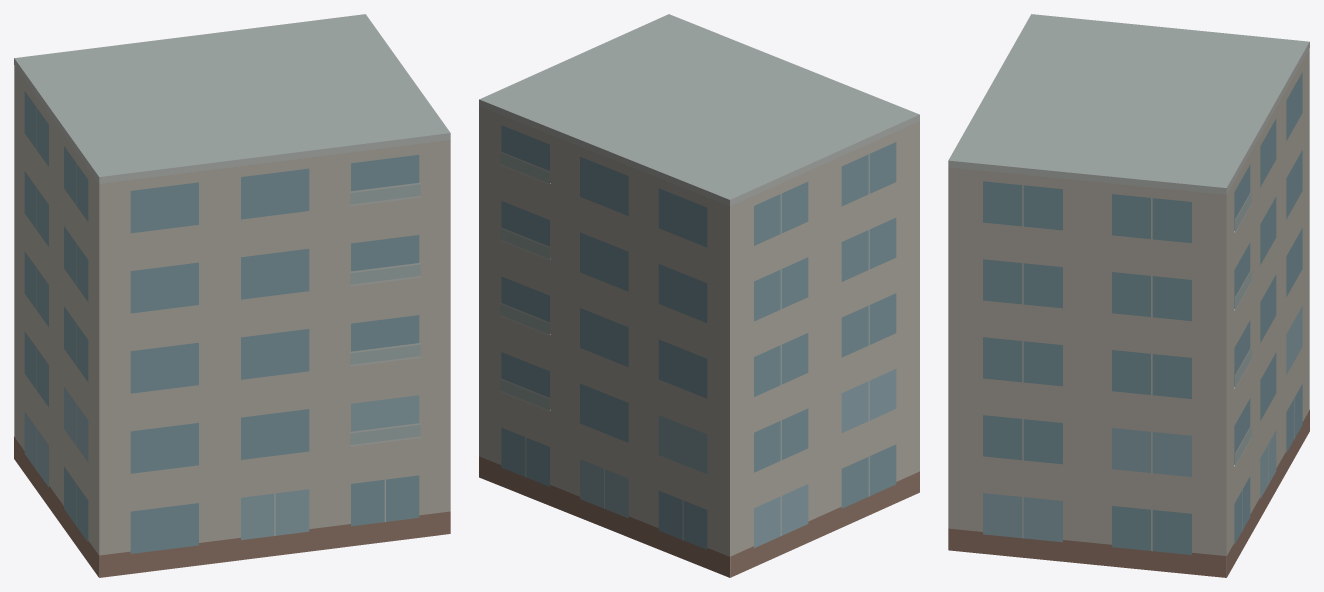
File: survey-upis-32538662.glb
3 views of the same model, side by side, from view 1: azimuth 30°, elevation 25°; view 2: azimuth 150°, elevation 25°; view 3: azimuth 270°, elevation 25° (orthographic). The views are drawn at different scales.
Visible parts, largest first — view 1: survey-upis-32538662.tmp; view 2: survey-upis-32538662.tmp; view 3: survey-upis-32538662.tmp.
Boxes of the visible parts, x1=… form: survey-upis-32538662.tmp: x1=14, y1=14, x2=450, y2=577; survey-upis-32538662.tmp: x1=479, y1=14, x2=919, y2=577; survey-upis-32538662.tmp: x1=948, y1=14, x2=1309, y2=577.
Bounding box in the file's own units: 13.66 × 14.25 × 11.99.
